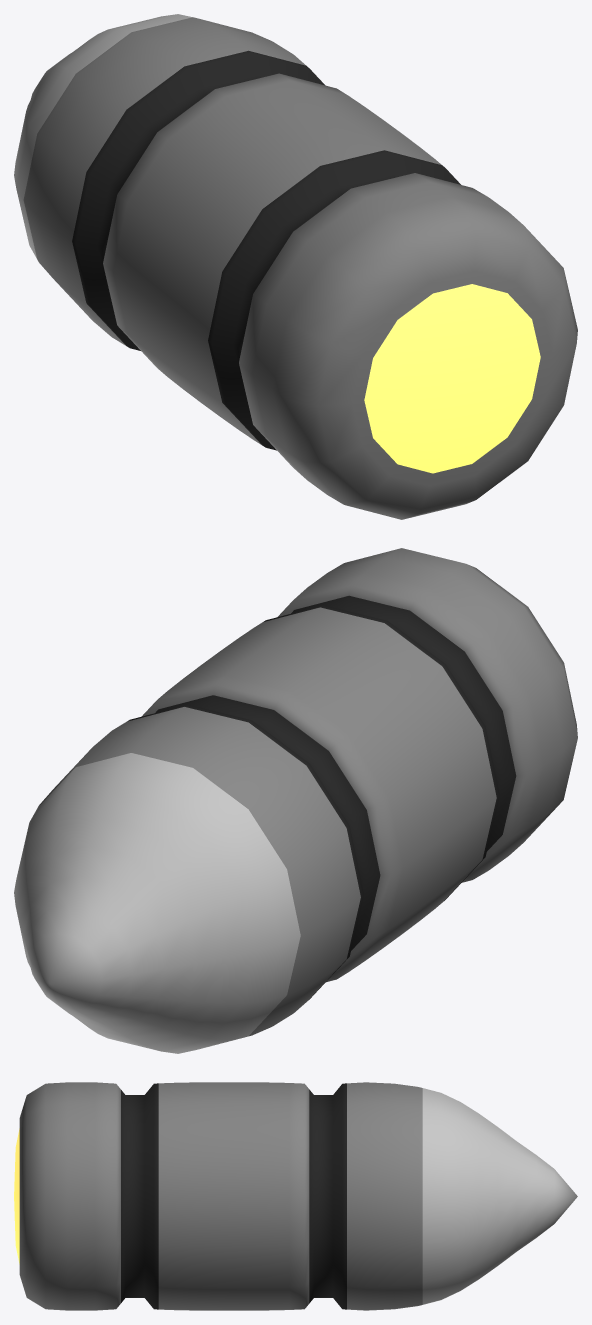
Rendered from shot_rail_slug.glb.
3 views of the same model, one above another, from view 1: azimuth 30°, elevation 25°; view 2: azimuth 150°, elevation 25°; view 3: azimuth 270°, elevation 25° (orthographic). The views are drawn at different scales.
Parts seen in each view (by area): view 1: rs_body0, rs_body2, rs_base, rs_body4, rs_body3, rs_body1, rs_body5; view 2: rs_body5, rs_body2, rs_body0, rs_body4, rs_body1, rs_body3; view 3: rs_body2, rs_body0, rs_body5, rs_body4, rs_body1, rs_body3, rs_base.
Boxes of the visible parts, x1,y1,x2,y2 form: rs_body0: (239,173,577,519); rs_body2: (103,73,441,444); rs_base: (364,284,540,473); rs_body4: (23,17,305,345); rs_body3: (72,50,325,350); rs_body1: (208,150,460,450); rs_body5: (14,14,192,258); rs_body5: (14,753,300,1053); rs_body2: (142,607,496,982); rs_body0: (278,548,577,882); rs_body4: (38,707,360,1049); rs_body1: (263,595,516,900); rs_body3: (127,695,380,1000); rs_body2: (158,1082,309,1310); rs_body0: (19,1082,120,1310); rs_body5: (422,1088,577,1304); rs_body4: (347,1082,422,1310); rs_body1: (121,1083,158,1309); rs_body3: (309,1083,346,1309); rs_base: (14,1128,19,1264).
Bounding box in the file's own units: 4.96 × 4.84 × 11.97.
